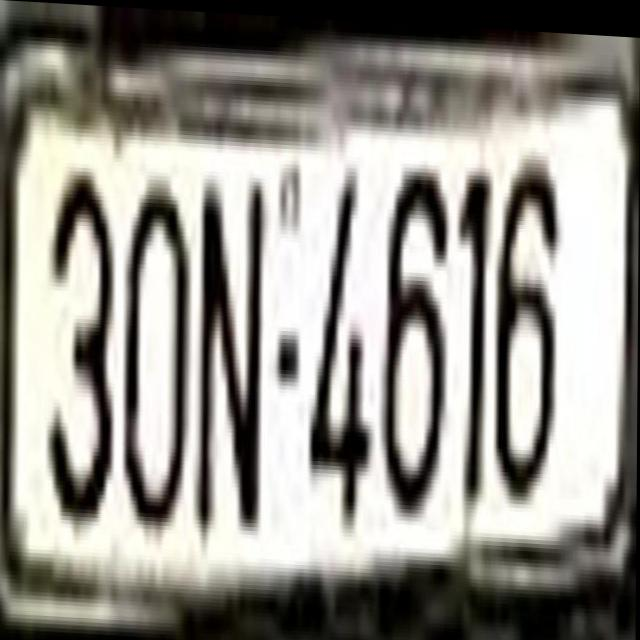0: (123, 145, 186, 528)
1: (457, 153, 489, 515)
3: (49, 158, 112, 537)
4: (308, 150, 372, 518)
6: (380, 142, 449, 510), (494, 140, 560, 519)
N: (195, 149, 270, 536)
